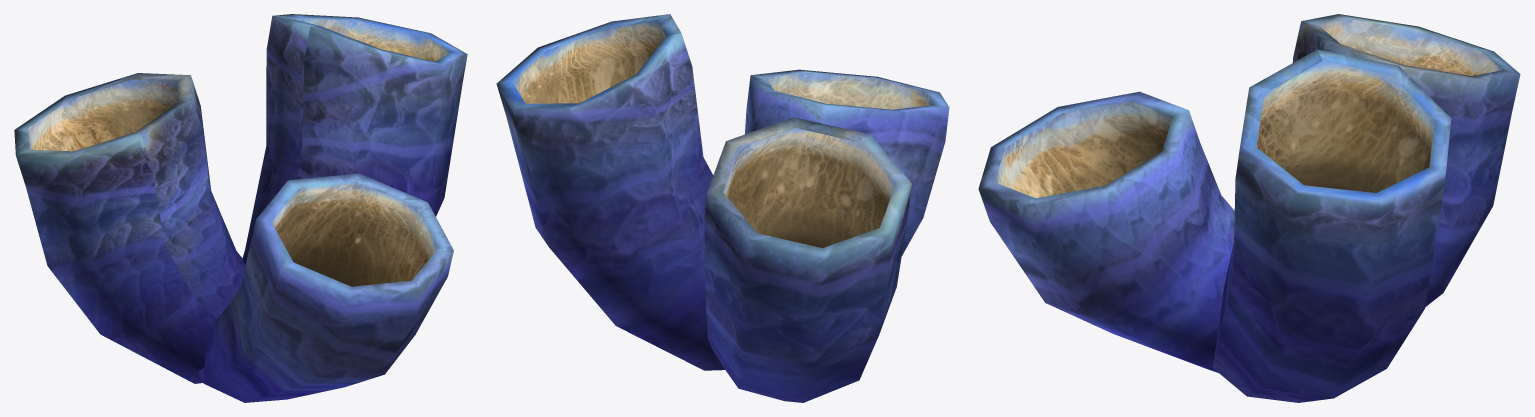
The picture shows the model from 3 angles, left to right: view 1: azimuth 30°, elevation 25°; view 2: azimuth 150°, elevation 25°; view 3: azimuth 270°, elevation 25°; orthographic projection. The views are drawn at different scales.
Visible parts, largest first — view 1: Coral_4; view 2: Coral_4; view 3: Coral_4.
Boxes of the visible parts, x1=… form: Coral_4: x1=14, y1=14, x2=467, y2=402; Coral_4: x1=496, y1=14, x2=949, y2=402; Coral_4: x1=978, y1=14, x2=1520, y2=402.
Bounding box in the file's own units: 5.13 × 3.98 × 5.37.
